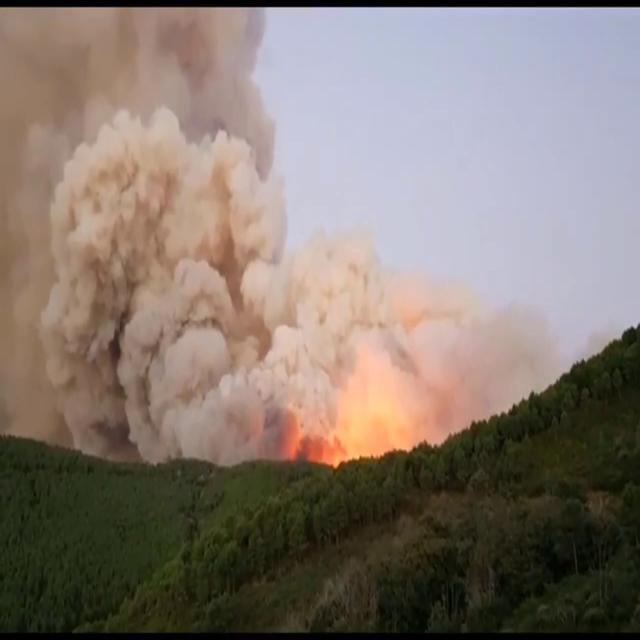Smoke: (0, 21, 251, 474)
